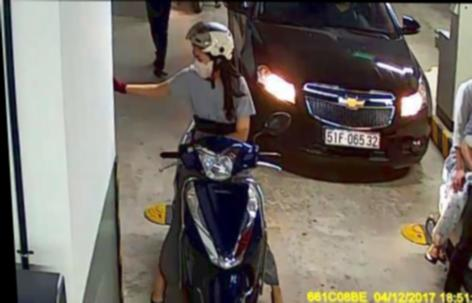License_Plate: (323, 126, 384, 151)
